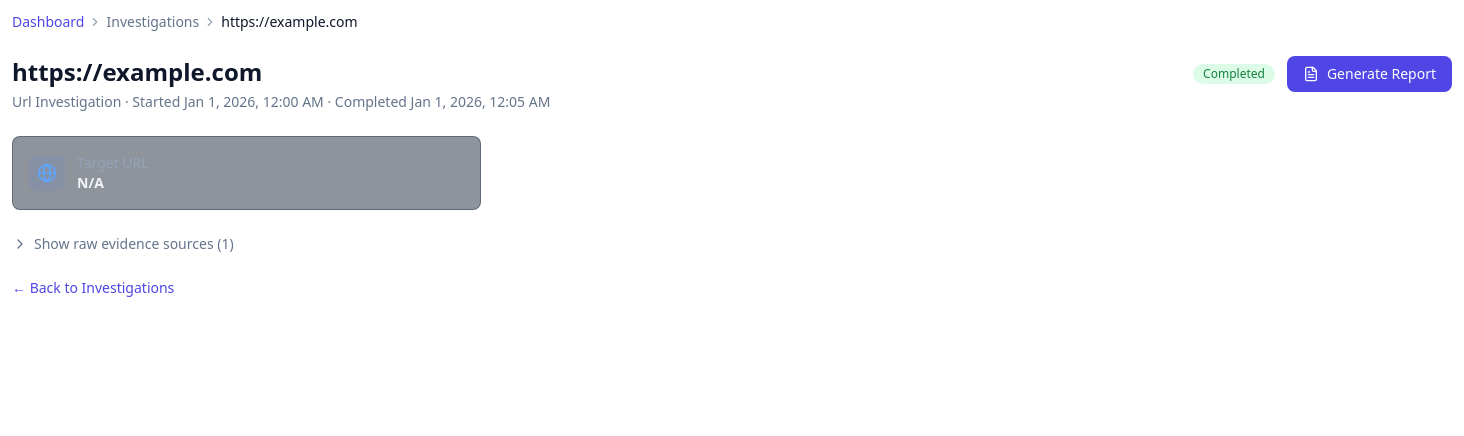
Test case: InvestigationDetailPage › collapses the raw evidence list behind a toggle for url investigations too
This screenshot has width=1464, height=436.
Expected: the text "http response" is not shown
Click the button "Show raw evidence sources (1)": [123, 244] box [12,234,234,254]
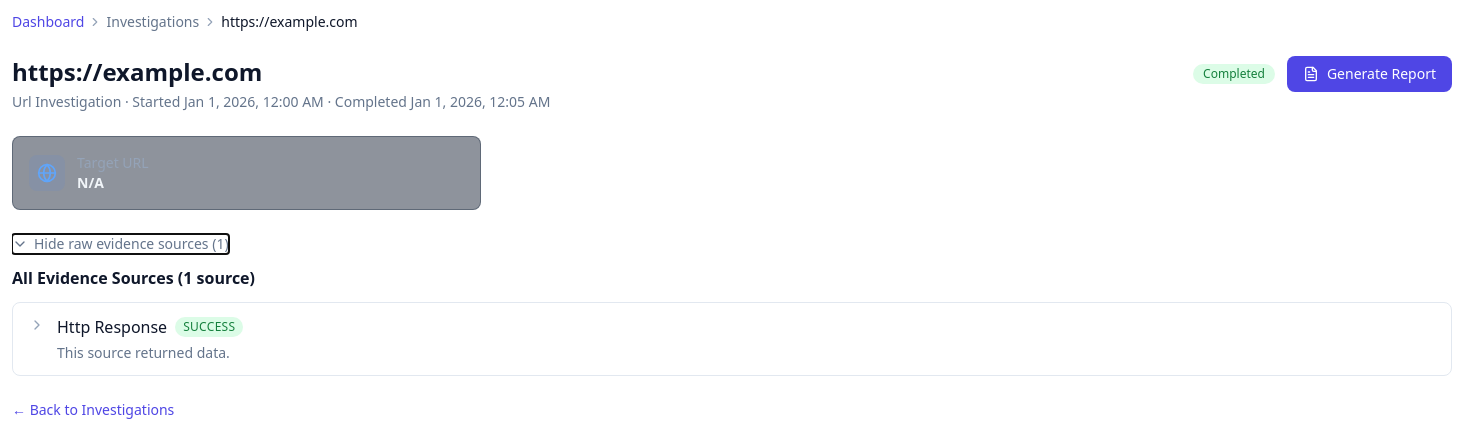
Result: the text "http response" is shown at [57,315,167,339]
